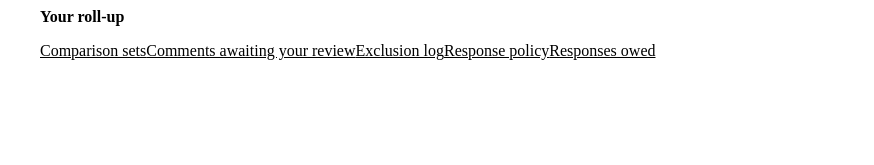
Test case: /leadership, the landing › carries one link to the comparison sets, and following it opens them
Click the link "Comparison sets" at coordinates (93, 50), box [40,42,146,59]
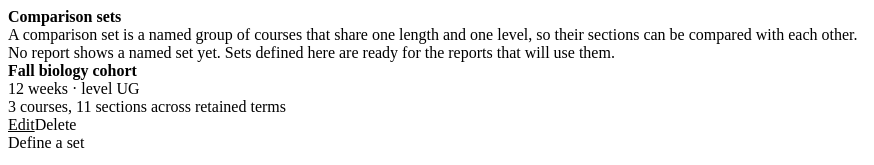
Check: the list with test id "pulse-leadership-set-list" is shown, box [8,62,286,134]
